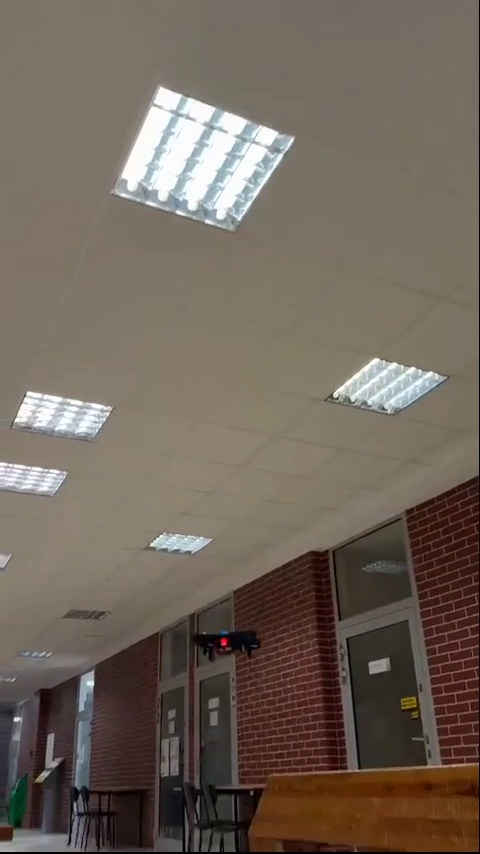drone: (188, 628, 262, 667)
